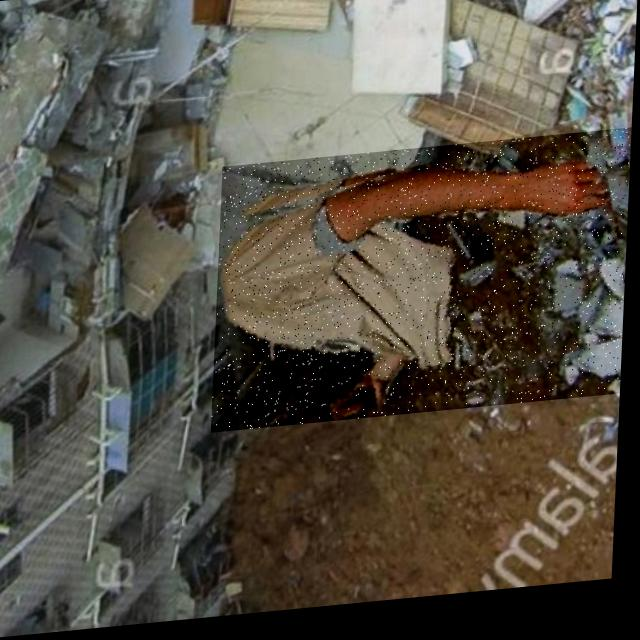Person in Rubble: (215, 140, 633, 436)
